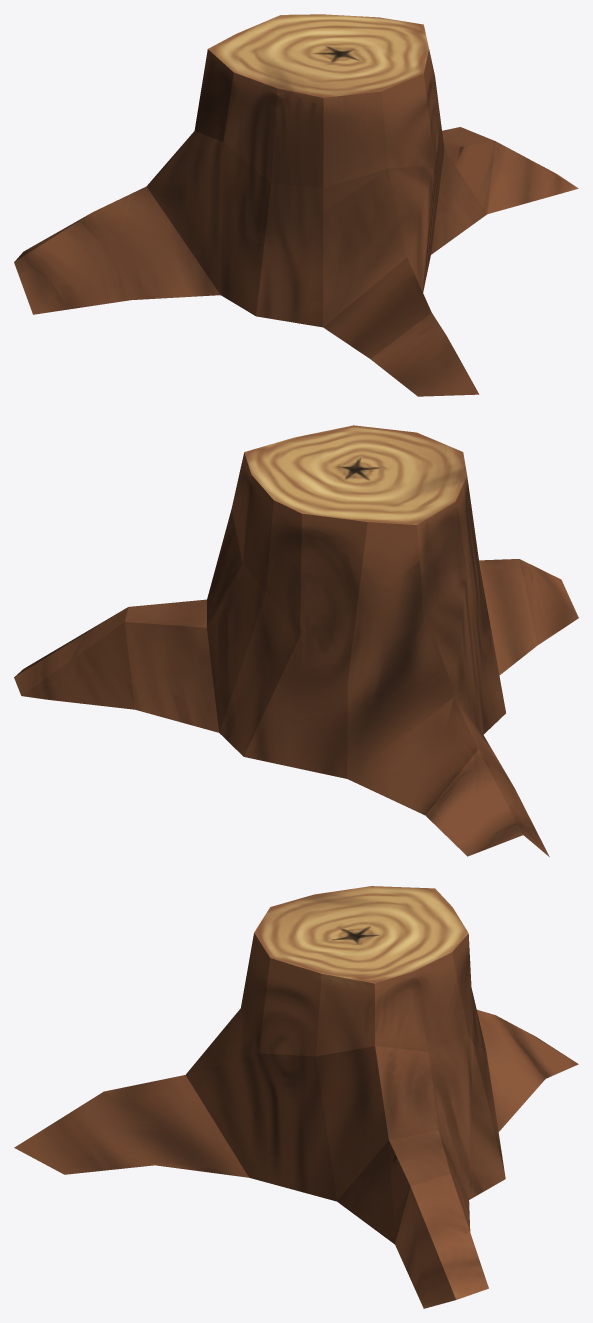
File: baumstumpf.fbx
3 views of the same model, one above another, from view 1: azimuth 30°, elevation 25°; view 2: azimuth 150°, elevation 25°; view 3: azimuth 270°, elevation 25° (orthographic). The views are drawn at different scales.
Parts seen in each view (by area): view 1: Circle; view 2: Circle; view 3: Circle.
Part boxes in pixels (bbox=[...]): Circle: bbox=[14, 14, 578, 396]; Circle: bbox=[14, 425, 578, 856]; Circle: bbox=[14, 886, 578, 1308].
Bounding box in the file's own units: 304 × 141 × 278.
Materials: 1 (1 with a texture image).
